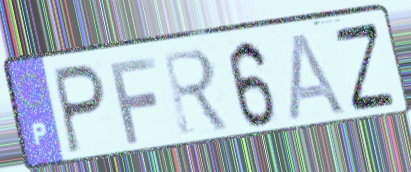6: (225, 37, 279, 129)
A: (287, 29, 349, 123)
F: (106, 54, 160, 146)
P: (51, 61, 109, 158)
R: (159, 46, 234, 138)
Z: (331, 19, 399, 115)
